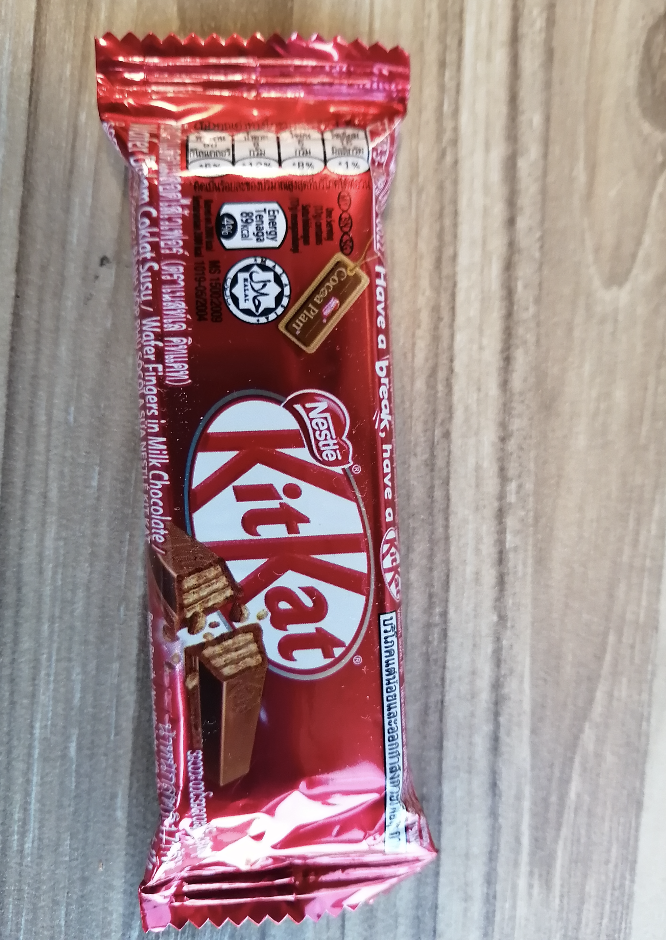Kitkat: (157, 127, 395, 869)
